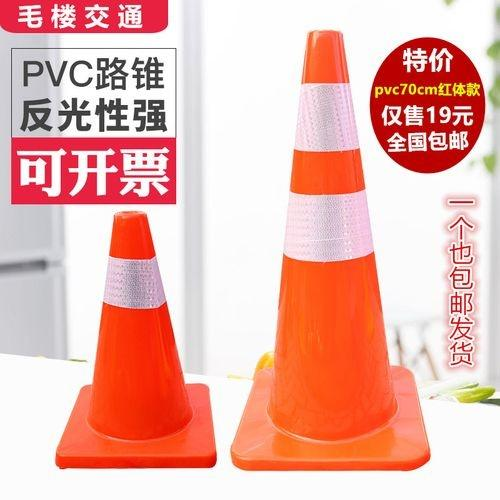cone_barrel: (251, 32, 410, 461), (67, 219, 208, 458)
